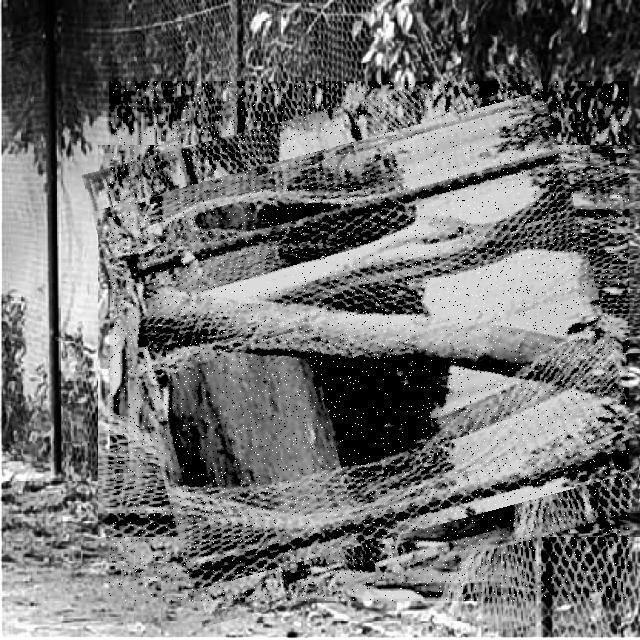anomaly-fence: (109, 81, 629, 601)
